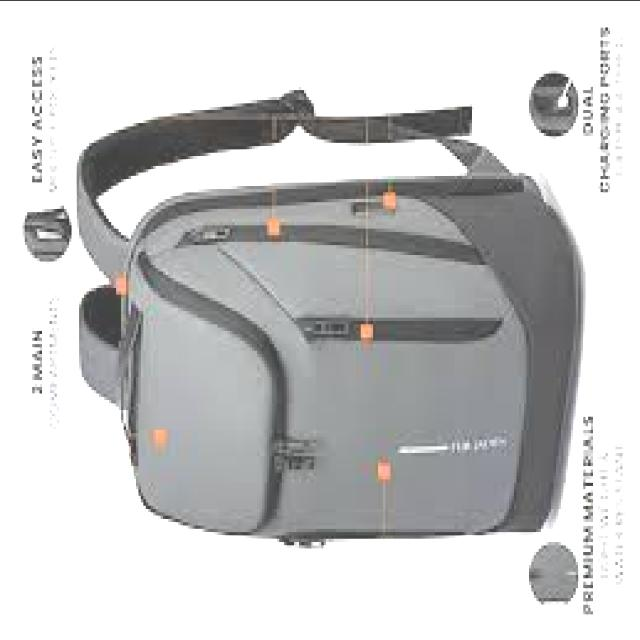backpack: (73, 87, 579, 552)
